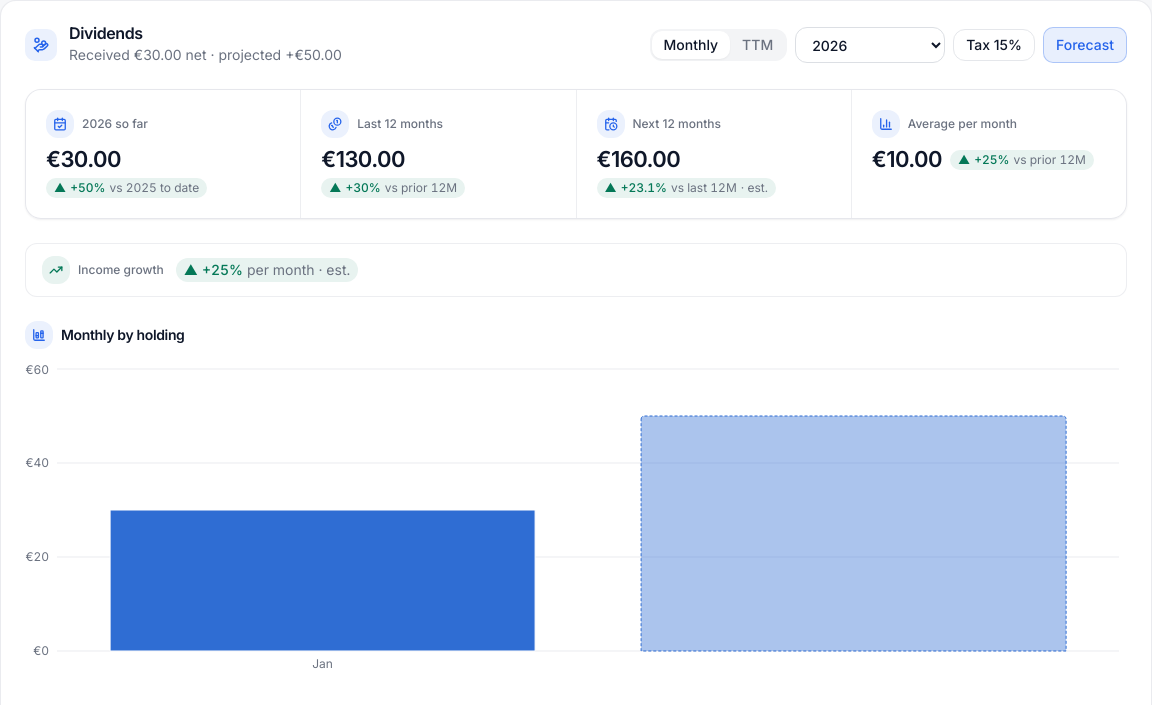
Dividend chart controls › keeps the control open and shows the API error when saving fails
The width and height of the screenshot is (1152, 705).
Click the button with aria-label "Edit forecast withholding".
click(994, 45)  # box [953,29,1035,61]
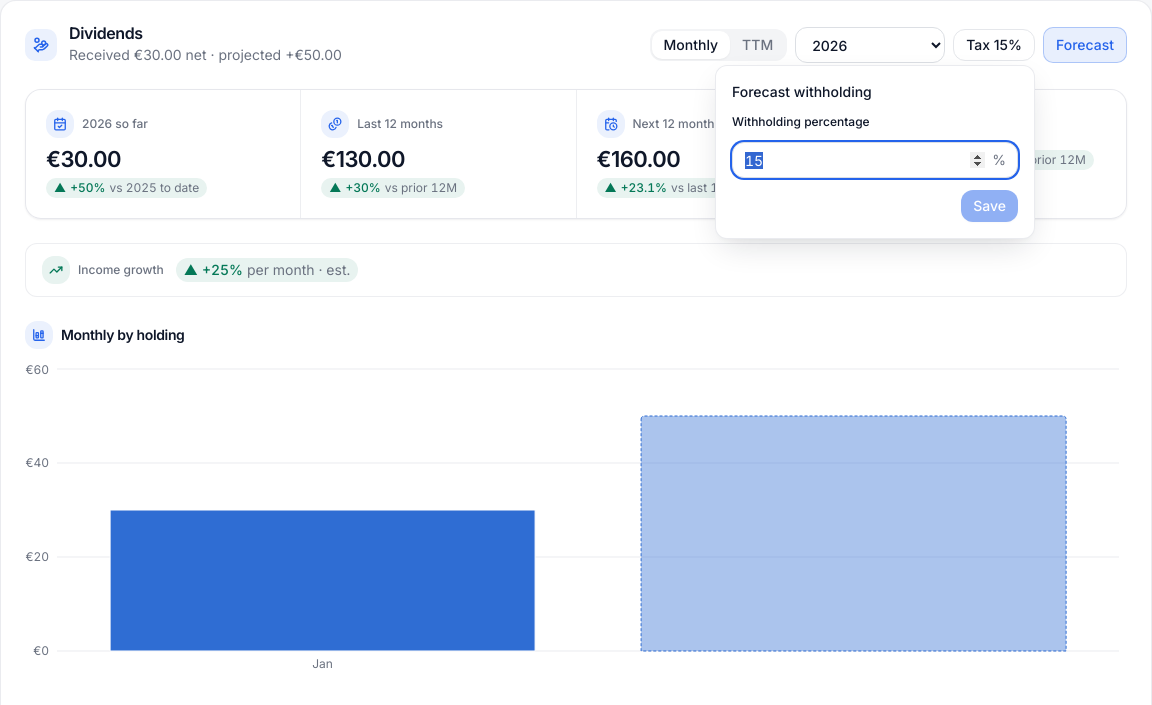
Replace the text in the number field labelled "Withholding percentage" with "20" at (875, 160), box [732,142,1018,178]
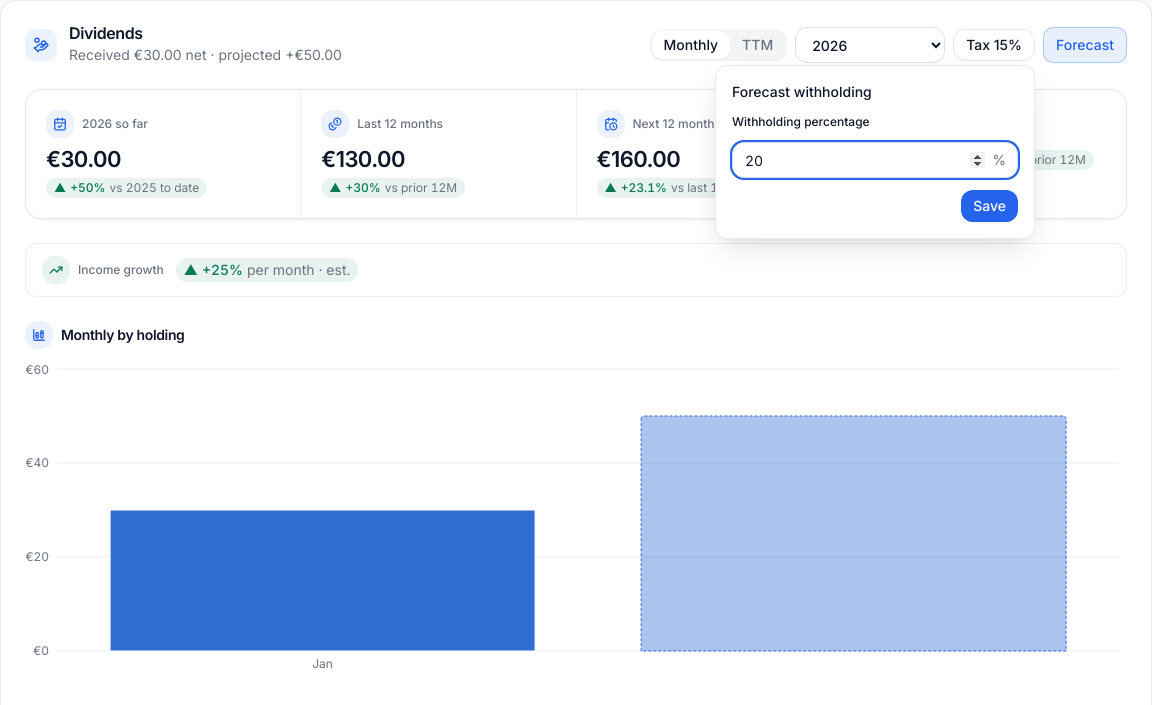
Click the button "Save".
click(990, 206)  # box [961,190,1018,222]
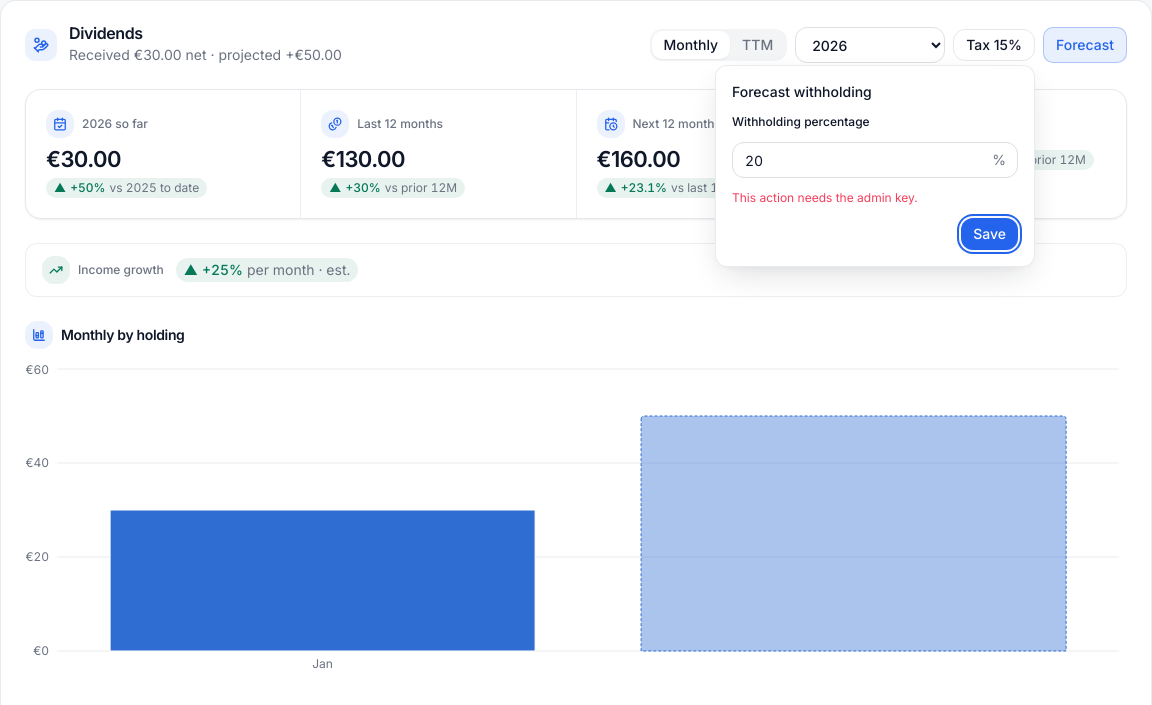
Check: the message shows "needs the admin key", box [732,190,918,205]
